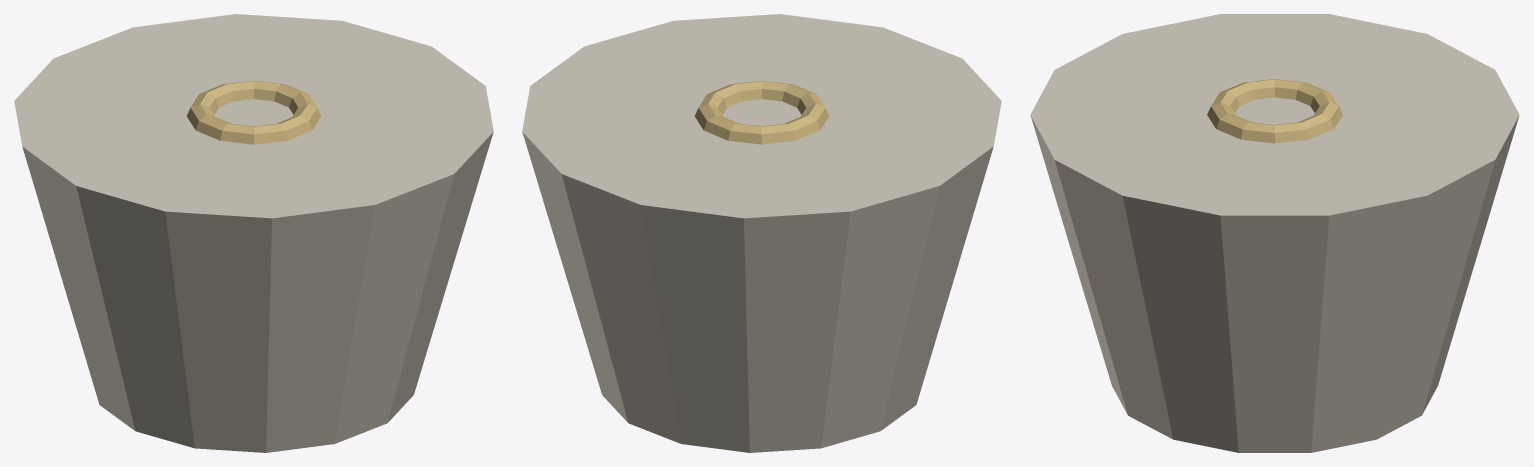
Rendered from ilu_cúpula.glb.
3 views of the same model, side by side, from view 1: azimuth 30°, elevation 25°; view 2: azimuth 150°, elevation 25°; view 3: azimuth 270°, elevation 25° (orthographic).
Parts seen in each view (by area): view 1: ILU_Cupula_v01; view 2: ILU_Cupula_v01; view 3: ILU_Cupula_v01.
Part boxes in pixels (box(x1,y1,x2,y2)): ILU_Cupula_v01: box(14, 14, 493, 452); ILU_Cupula_v01: box(522, 14, 1001, 452); ILU_Cupula_v01: box(1030, 14, 1519, 452).
Size of the model in its own units: 0.351 by 0.25 by 0.36.
